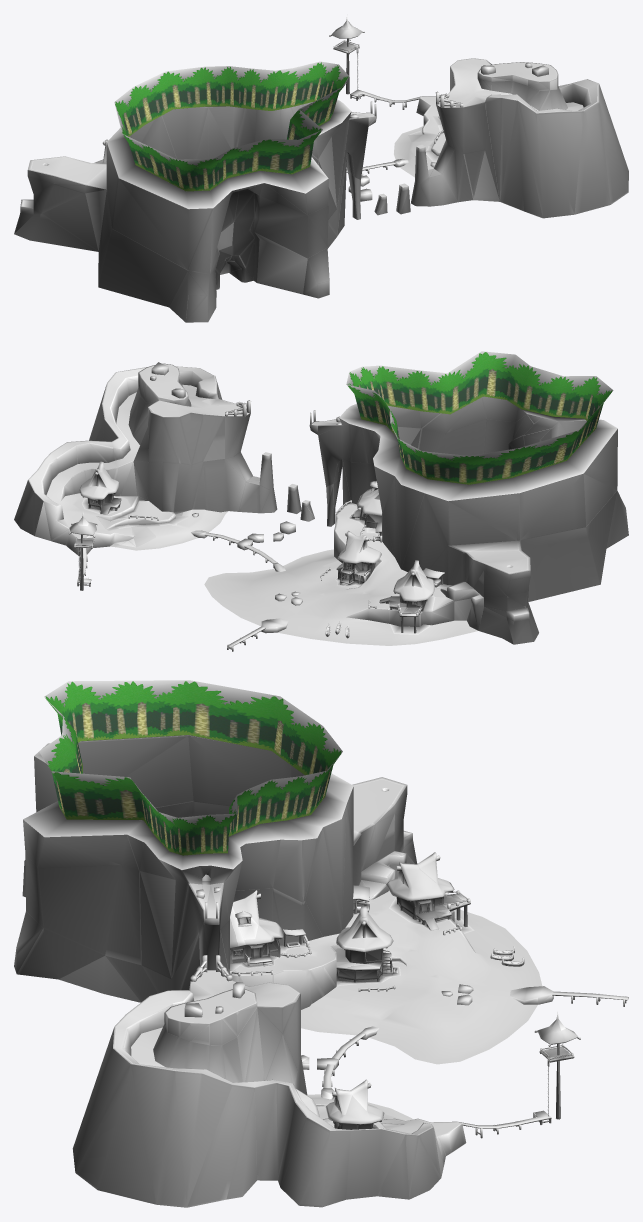
The model's file is Island.obj.
3 views of the same model, one above another, from view 1: azimuth 30°, elevation 25°; view 2: azimuth 150°, elevation 25°; view 3: azimuth 270°, elevation 25° (orthographic). The views are drawn at different scales.
Parts seen in each view (by area): view 1: m5_VC, m0, m6_VC, m4_VC, m0_VC, m2_VC, m1_VC; view 2: m5_VC, m6_VC, m0, m4_VC, m1_VC, m0_VC, m2_VC, m3_VC, m7_VC; view 3: m5_VC, m6_VC, m0, m4_VC, m1_VC, m2_VC, m0_VC, m3_VC.
Boxes of the visible parts, left/top/right/bottom form: m5_VC: left=14, top=67, right=628, bottom=322; m0: left=115, top=62, right=348, bottom=191; m6_VC: left=22, top=59, right=597, bottom=209; m4_VC: left=14, top=58, right=599, bottom=281; m0_VC: left=114, top=61, right=349, bottom=166; m2_VC: left=335, top=39, right=463, bottom=173; m1_VC: left=94, top=14, right=362, bottom=163; m5_VC: left=14, top=381, right=628, bottom=644; m6_VC: left=30, top=364, right=617, bottom=645; m0: left=347, top=352, right=612, bottom=484; m4_VC: left=28, top=362, right=533, bottom=644; m1_VC: left=69, top=461, right=434, bottom=603; m0_VC: left=346, top=351, right=613, bottom=460; m2_VC: left=76, top=400, right=444, bottom=651; m3_VC: left=68, top=472, right=443, bottom=638; m7_VC: left=121, top=398, right=446, bottom=597; m5_VC: left=14, top=735, right=441, bottom=1207; m6_VC: left=23, top=735, right=542, bottom=1136; m0: left=45, top=681, right=341, bottom=855; m4_VC: left=113, top=777, right=553, bottom=1177; m1_VC: left=230, top=852, right=577, bottom=1124; m2_VC: left=190, top=885, right=628, bottom=1138; m0_VC: left=39, top=680, right=342, bottom=824; m3_VC: left=230, top=855, right=580, bottom=1129.
Size of the model in its own units: 194 by 55.74 by 145.
9 materials, 9 textured.
